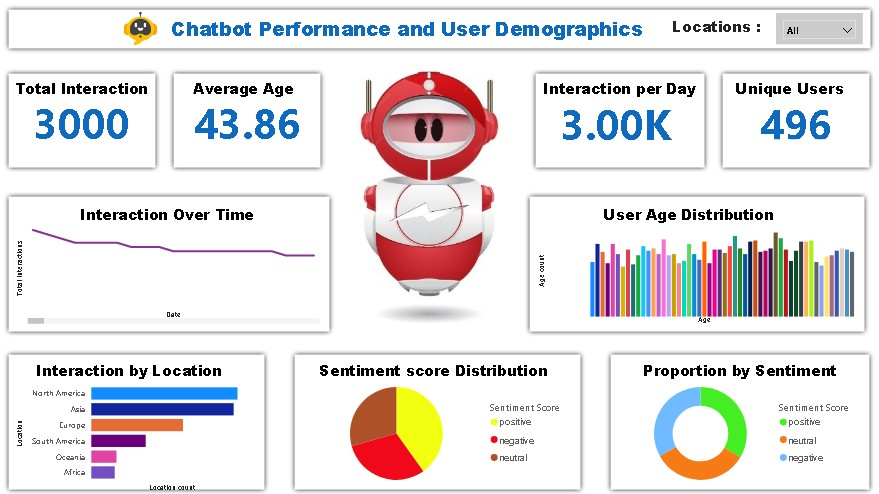

The page's visual inventory and layout, read from the dashboard file:
{"tool":"powerbi","page":{"name":"Page 1","canvas":[1280,720],"ordinal":0},"visuals":[{"type":"shape","box":[10.1,13,1257.1,72],"z":0},{"type":"image","box":[488.2,85,272.2,393.1],"z":1000},{"type":"group","id":"g1","title":"Group 1","box":[10.1,105.1,227.5,151.2],"z":2000},{"type":"shape","title":"Total","box":[10.1,105.1,227.5,151.2],"z":2000,"group":"g1"},{"type":"group","id":"g2","title":"Group 2","box":[248,105.1,227.5,151.2],"z":3000},{"type":"card","fields":{"Values":["chatbot.Total Interactions"]},"box":[23.1,146.9,200.2,67.7],"z":3000,"group":"g1"},{"type":"group","id":"g3","title":"Group 3","box":[768.6,105.1,259.2,151.2],"z":4000},{"type":"textbox","box":[23.1,115.2,214.6,41.8],"z":4000,"group":"g1"},{"type":"shape","title":"Total","box":[248,105.1,227.5,151.2],"z":5000,"group":"g2"},{"type":"group","id":"g4","title":"Group 4","box":[1038.2,105.1,227.5,151.2],"z":5000},{"type":"textbox","box":[279.7,115.2,162.7,41.8],"z":6000,"group":"g2"},{"type":"group","id":"g5","title":"Group 5","box":[10.1,282.2,478.1,210.2],"z":6000},{"type":"card","fields":{"Values":["chatbot.Average Age"]},"box":[248,146.9,227.5,67.7],"z":7000,"group":"g2"},{"type":"group","id":"g6","title":"Group 6","box":[760.3,282.2,498.2,210.2],"z":7000},{"type":"shape","title":"Total","box":[1038.2,105.1,227.5,151.2],"z":8000,"group":"g4"},{"type":"group","id":"g7","title":"Group 7","box":[421.9,509.8,427.7,210.2],"z":8000},{"type":"shape","title":"Total","box":[768.6,105.1,259.2,151.2],"z":9000,"group":"g3"},{"type":"group","id":"g8","title":"Group 8","box":[877,509.8,388.8,210.2],"z":9000},{"type":"textbox","box":[1059.8,115.2,182.9,41.8],"z":10000,"group":"g4"},{"type":"group","id":"g9","title":"Group 9","box":[10.1,509.8,384.5,210.2],"z":10000},{"type":"slicer","fields":{"Values":["chatbot.Location"]},"box":[1123.2,25.9,125.3,44.6],"z":11000},{"type":"textbox","box":[783,115.2,244.8,41.8],"z":11000,"group":"g3"},{"type":"textbox","box":[969.1,25.9,154.1,44.6],"z":12000},{"type":"card","fields":{"Values":["chatbot.Interactions Per Day"]},"box":[778.7,146.9,227.5,70.6],"z":12000,"group":"g3"},{"type":"textbox","box":[247.7,24.5,699.8,47.5],"z":13000},{"type":"card","fields":{"Values":["chatbot.Unique Users"]},"box":[1087.2,152.6,128.2,60.5],"z":13000,"group":"g4"},{"type":"image","box":[168.5,18.7,79.2,59],"z":14000},{"type":"shape","box":[10.1,282.2,478.1,210.2],"z":14000,"group":"g5"},{"type":"lineChart","fields":{"Category":["chatbot.Date"],"Y":["chatbot.Total Interactions"]},"box":[23.1,318.2,447.8,159.8],"z":15000,"group":"g5"},{"type":"textbox","box":[116.7,296.6,277.9,43.2],"z":16000,"group":"g5"},{"type":"shape","box":[760.3,282.2,498.2,210.2],"z":17000,"group":"g6"},{"type":"columnChart","fields":{"Category":["chatbot.Age"],"Y":["chatbot.Age count"],"Series":["chatbot.Age"]},"box":[774.7,318.2,473.8,159.8],"z":18000,"group":"g6"},{"type":"textbox","box":[869.7,296.6,277.9,43.2],"z":19000,"group":"g6"},{"type":"shape","box":[10.1,509.8,384.5,210.2],"z":20000,"group":"g9"},{"type":"shape","box":[877,509.8,388.8,210.2],"z":21000,"group":"g8"},{"type":"shape","box":[421.9,509.8,427.7,210.2],"z":22000,"group":"g7"},{"type":"barChart","fields":{"Category":["chatbot.Location"],"Y":["chatbot.Location count"],"Series":["chatbot.Location"]},"box":[23.1,542.9,351.4,177.1],"z":23000,"group":"g9"},{"type":"textbox","box":[53.3,521.3,290.9,43.2],"z":24000,"group":"g9"},{"type":"donutChart","fields":{"Category":["chatbot.Sentiment Score"],"Y":["chatbot.Average Age"]},"box":[895.7,542.9,351.4,177.1],"z":25000,"group":"g8"},{"type":"textbox","box":[927.4,521.3,301,43.2],"z":26000,"group":"g8"},{"type":"pieChart","fields":{"Category":["chatbot.Sentiment Score"],"Y":["chatbot.sentiment score count"]},"box":[436.3,542.9,397.4,177.1],"z":27000,"group":"g7"},{"type":"textbox","box":[460.8,521.3,349.9,43.2],"z":28000,"group":"g7"}]}

Visuals, with their boxes in screenshot pixels (x1, y1, x2, y2), scaled from the page's 1280x720 canvas onto the 879x494 screenshot:
shape: [7, 9, 870, 58]
image: [335, 58, 522, 328]
"Group 1" group: [7, 72, 163, 176]
"Total" shape: [7, 72, 163, 176]
"Group 2" group: [170, 72, 327, 176]
card - chatbot.Total Interactions: [16, 101, 153, 147]
"Group 3" group: [528, 72, 706, 176]
textbox: [16, 79, 163, 108]
"Total" shape: [170, 72, 327, 176]
"Group 4" group: [713, 72, 869, 176]
textbox: [192, 79, 304, 108]
"Group 5" group: [7, 194, 335, 338]
card - chatbot.Average Age: [170, 101, 327, 147]
"Group 6" group: [522, 194, 864, 338]
"Total" shape: [713, 72, 869, 176]
"Group 7" group: [290, 350, 583, 493]
"Total" shape: [528, 72, 706, 176]
"Group 8" group: [602, 350, 869, 493]
textbox: [728, 79, 853, 108]
"Group 9" group: [7, 350, 271, 493]
slicer - chatbot.Location: [771, 18, 857, 48]
textbox: [538, 79, 706, 108]
textbox: [665, 18, 771, 48]
card - chatbot.Interactions Per Day: [535, 101, 691, 149]
textbox: [170, 17, 651, 49]
card - chatbot.Unique Users: [747, 105, 835, 146]
image: [116, 13, 170, 53]
shape: [7, 194, 335, 338]
lineChart - chatbot.Date x chatbot.Total Interactions: [16, 218, 323, 328]
textbox: [80, 204, 271, 233]
shape: [522, 194, 864, 338]
columnChart - chatbot.Age x chatbot.Age count: [532, 218, 857, 328]
textbox: [597, 204, 788, 233]
shape: [7, 350, 271, 493]
shape: [602, 350, 869, 493]
shape: [290, 350, 583, 493]
barChart - chatbot.Location x chatbot.Location count: [16, 372, 257, 493]
textbox: [37, 358, 236, 387]
donutChart - chatbot.Sentiment Score x chatbot.Average Age: [615, 372, 856, 493]
textbox: [637, 358, 844, 387]
pieChart - chatbot.Sentiment Score x chatbot.sentiment score count: [300, 372, 573, 493]
textbox: [316, 358, 557, 387]
